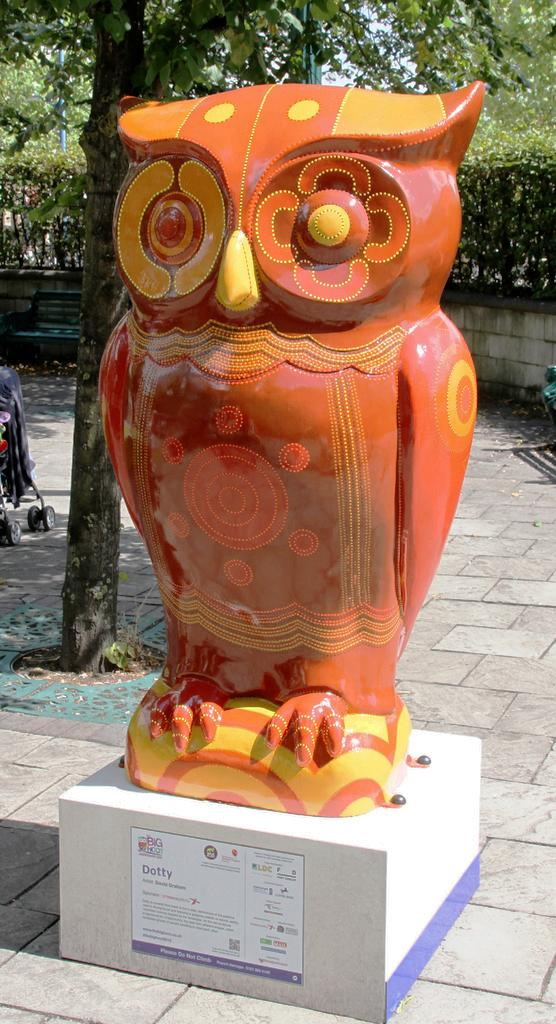Owl: (93, 74, 486, 764)
